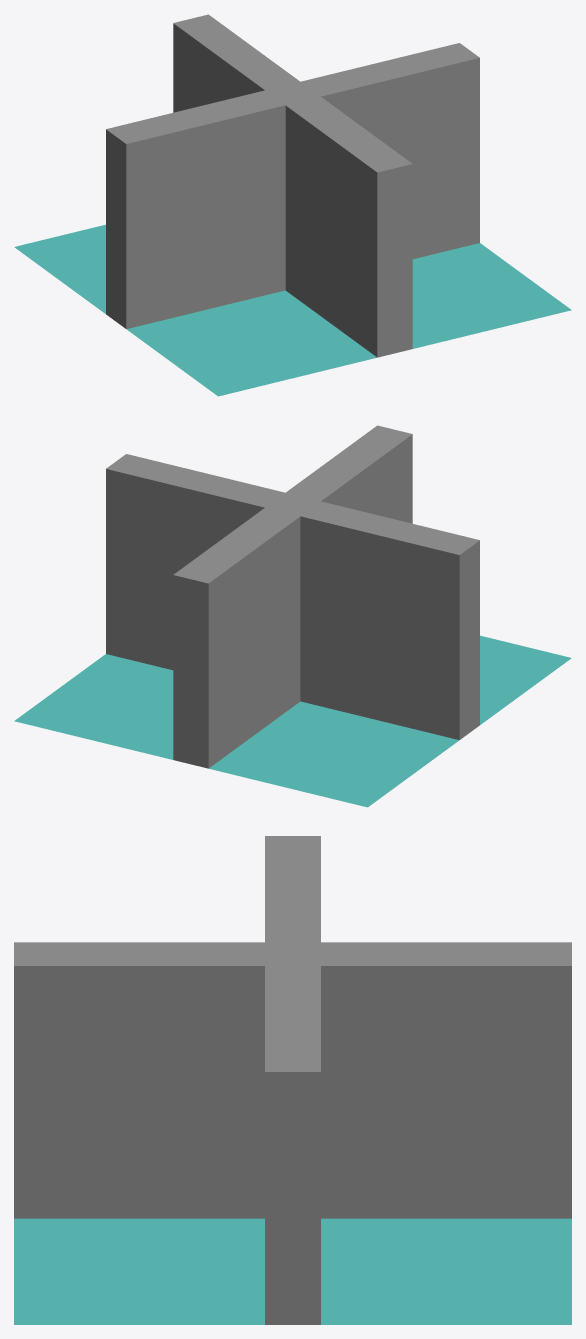
The model's file is Walls_SM_Muur_Cross.fbx.
3 views of the same model, one above another, from view 1: azimuth 30°, elevation 25°; view 2: azimuth 150°, elevation 25°; view 3: azimuth 270°, elevation 25° (orthographic). The views are drawn at different scales.
Parts seen in each view (by area): view 1: Walls:SM_Muur_Cross; view 2: Walls:SM_Muur_Cross; view 3: Walls:SM_Muur_Cross.
Boxes of the visible parts, x1,y1,x2,y2 form: Walls:SM_Muur_Cross: (14,14,571,396); Walls:SM_Muur_Cross: (14,425,571,807); Walls:SM_Muur_Cross: (14,836,571,1324).
Size of the model in its own units: 500 by 250 by 500.
Materials: 1 (1 with a texture image).
